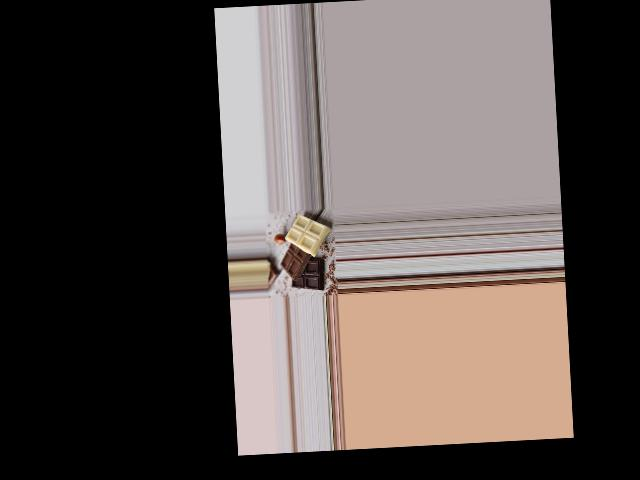chocolate: (277, 213, 329, 295)
